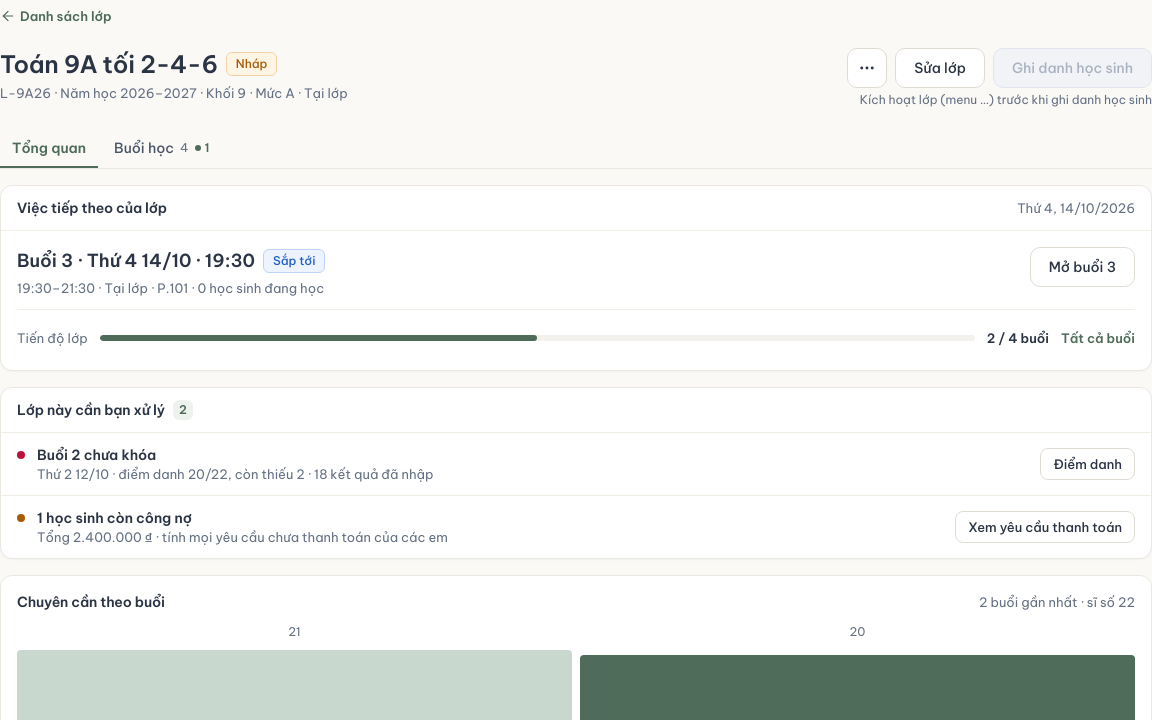
it: ClassDetailPage header and tabs › changes the class status through the menu dialog and keeps it open on an error
Click the button named "Thêm hành động cho lớp": (867, 68) [847,48,887,88]
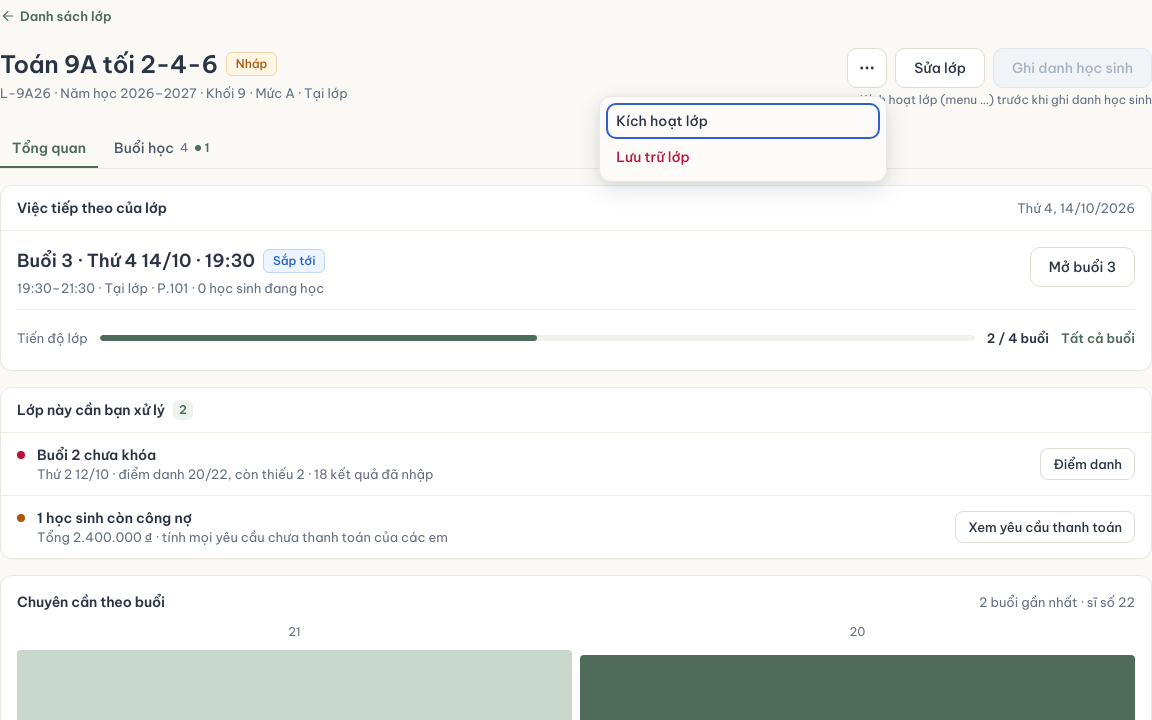
Click the menu item "Kích hoạt lớp": (662, 121) [606,103,880,139]
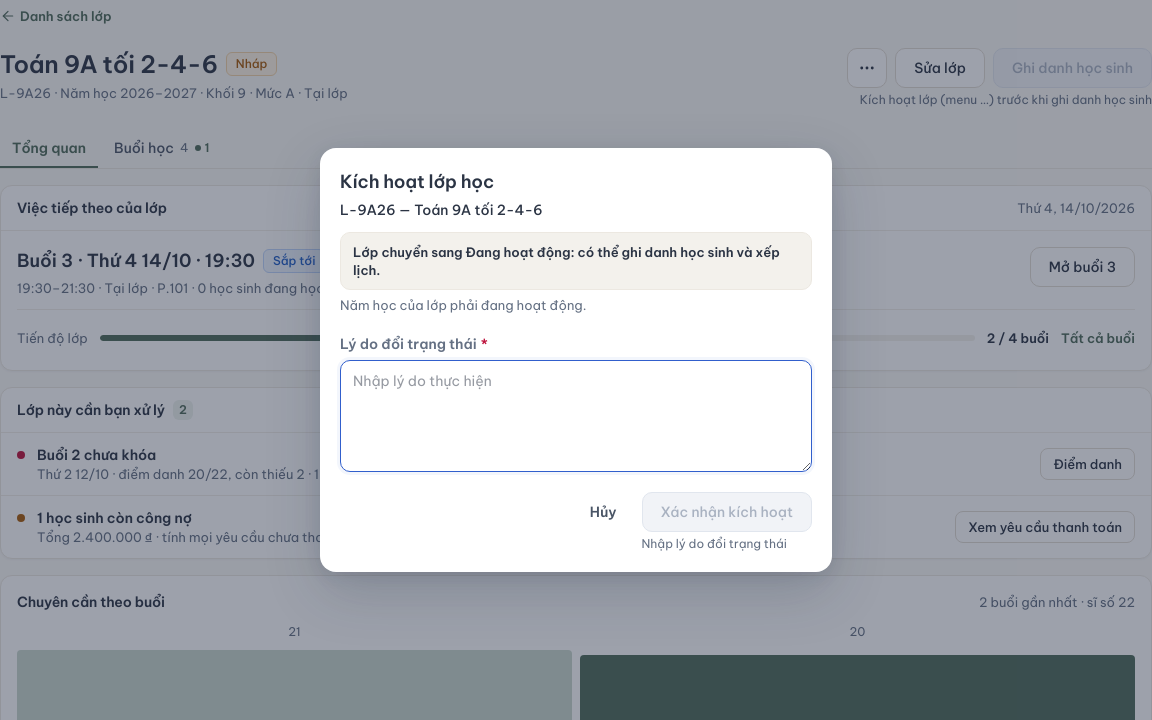
Now the button "Xác nhận kích hoạt" is disabled, box [642,492,812,532]
In the text box labelled "Lý do đổi trạng thái*": (576, 416) [340,360,812,472], type "Đủ học sinh để mở lớp"
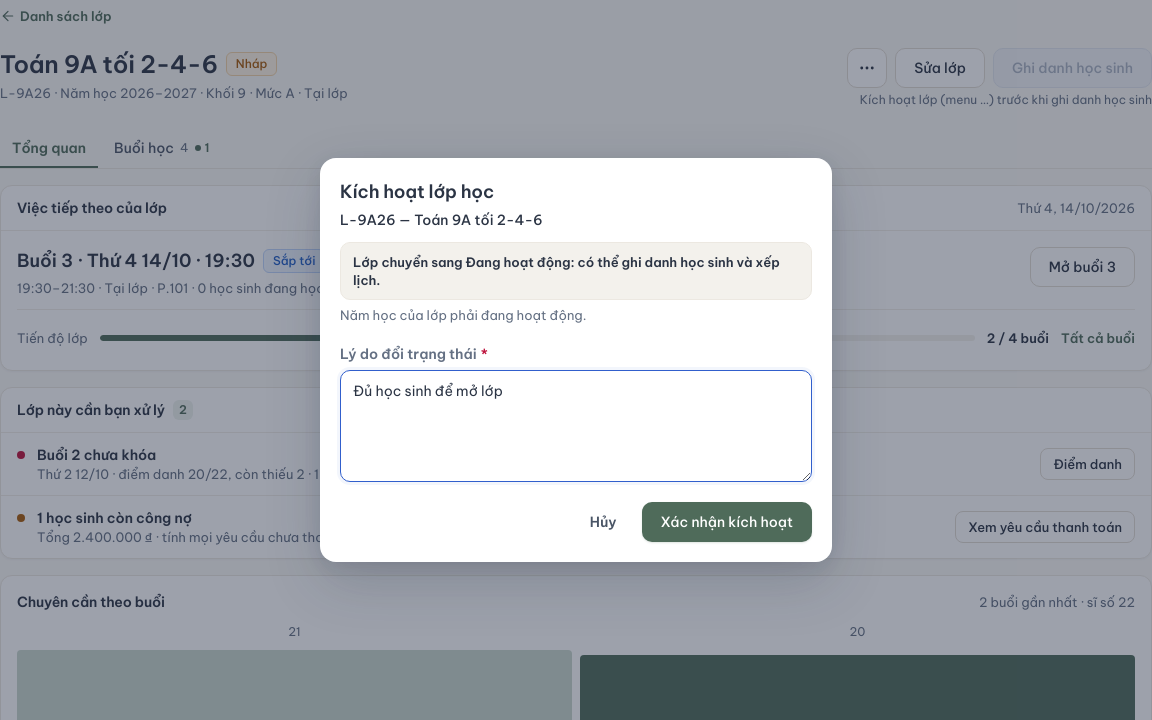
Click the button "Xác nhận kích hoạt": (727, 522) [642,502,812,542]
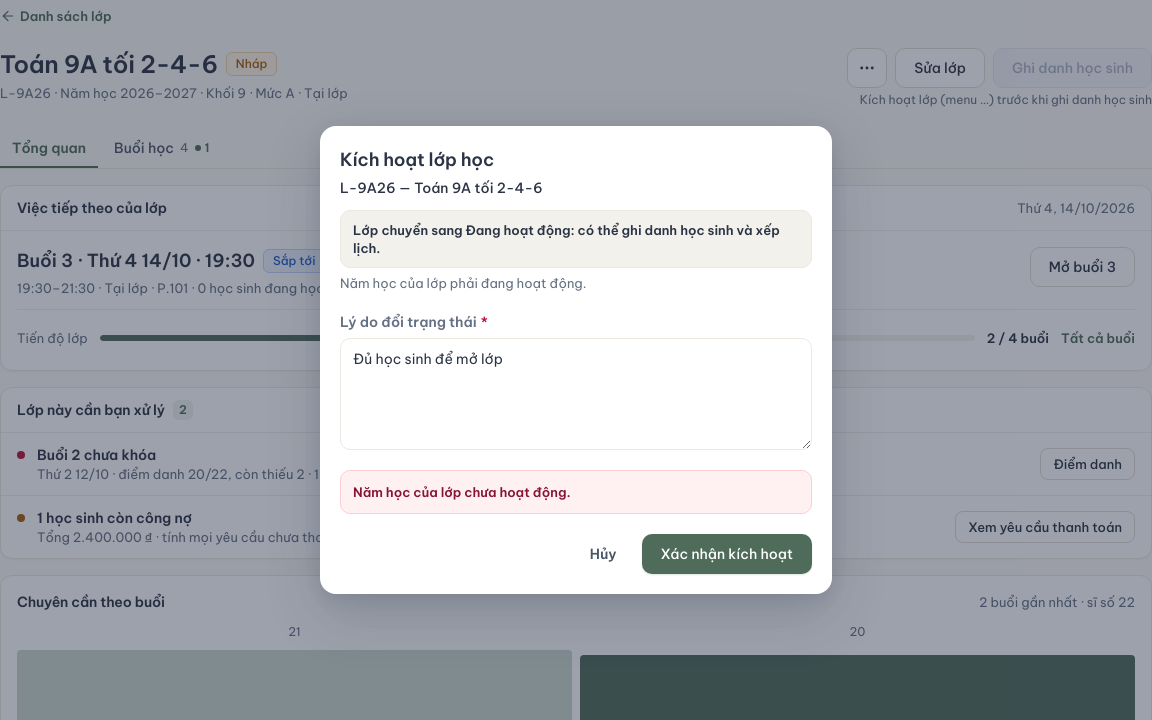
Now the dialog "Kích hoạt lớp học" is shown, box [320,126,832,594]
Now the message reads "Năm học của lớp chưa hoạt động.", box [353,484,571,500]
Click the button "Xác nhận kích hoạt": (727, 554) [642,534,812,574]
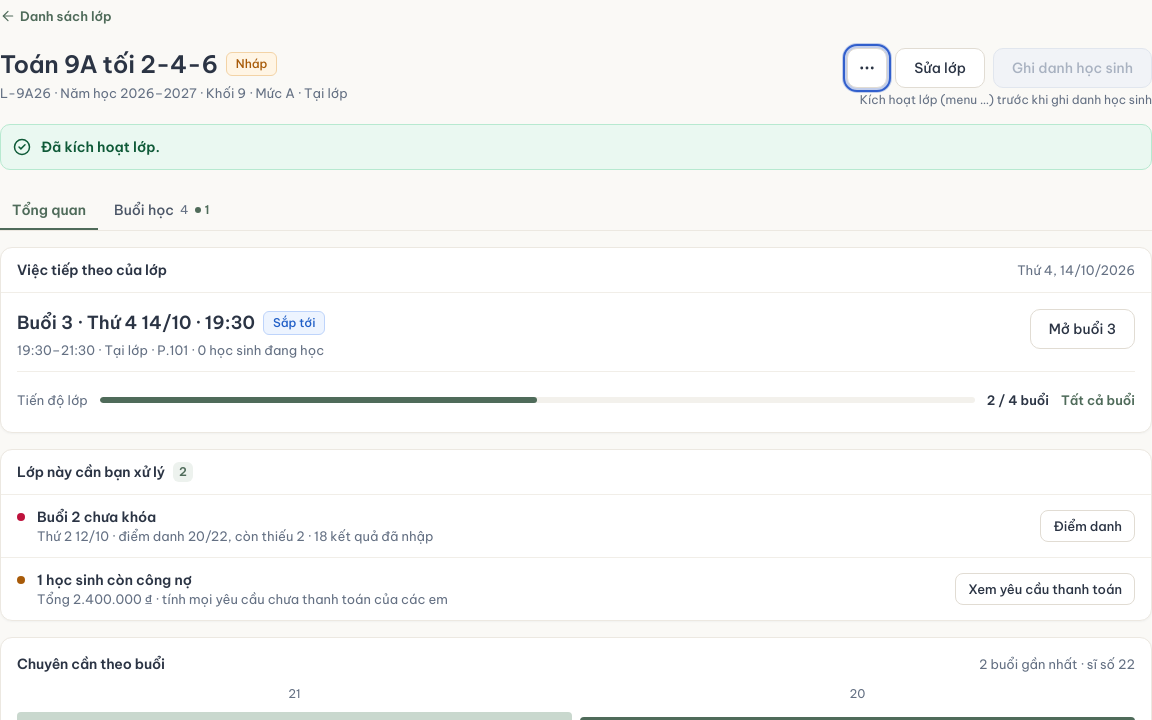
Now the text "Đã kích hoạt lớp." is shown, box [41,138,160,156]
Now the heading "Kích hoạt lớp học" is gone
